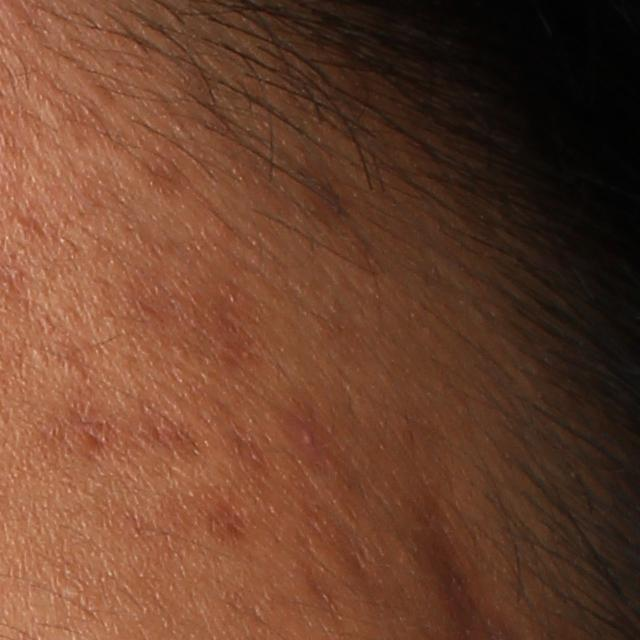atrophic_scar: (294, 461, 383, 571), (297, 524, 348, 640), (33, 401, 120, 461)
